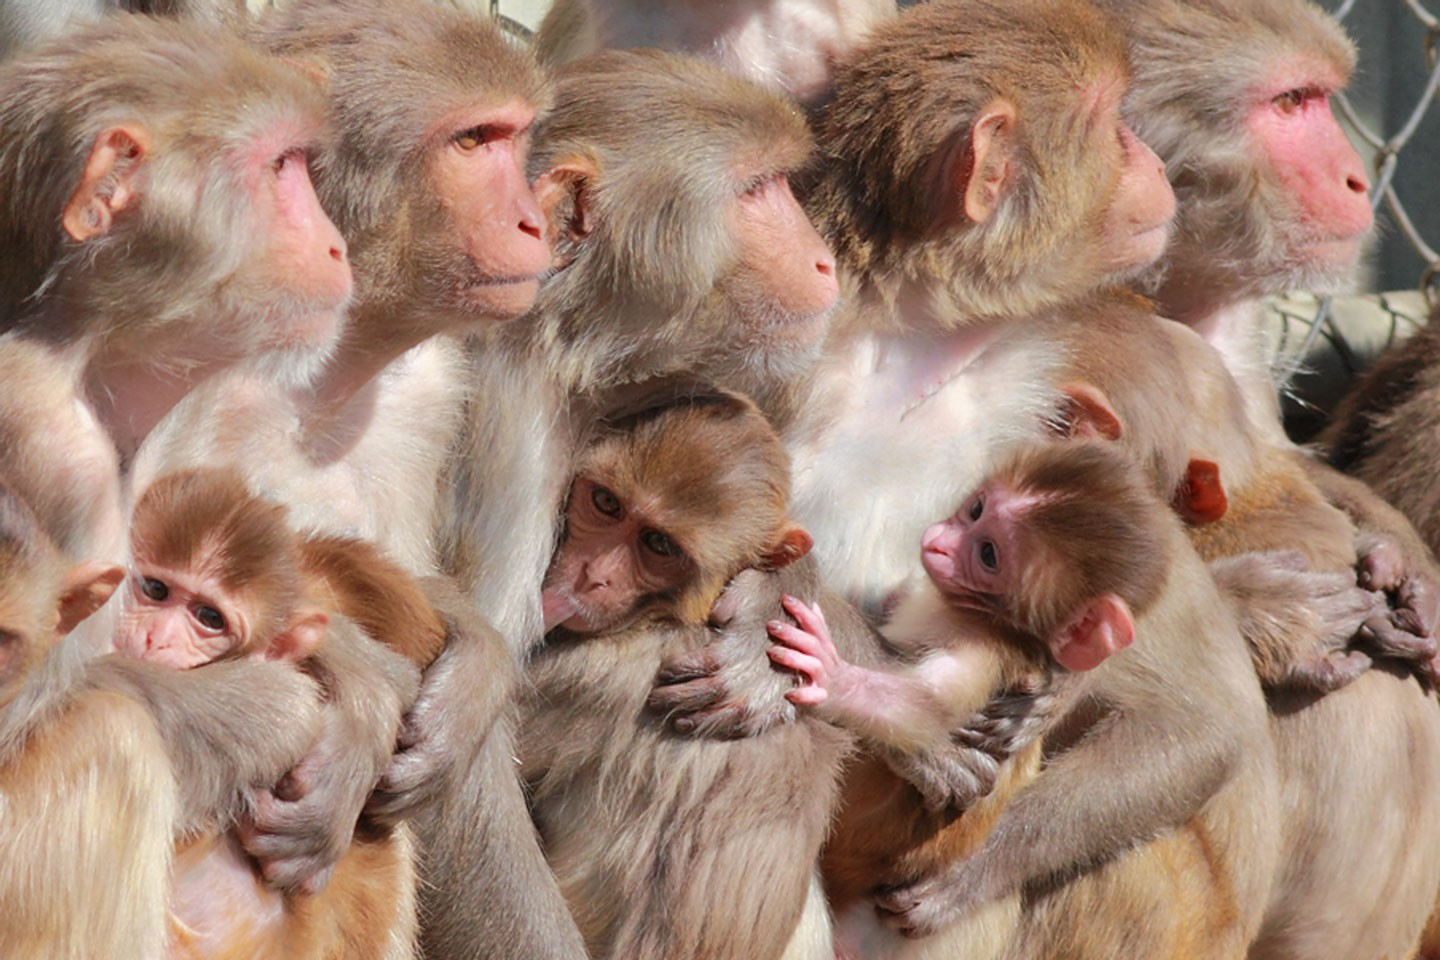monkey: (950, 283, 1440, 960), (1, 36, 347, 960), (516, 46, 840, 960), (246, 18, 549, 526), (772, 420, 1136, 835), (813, 1, 1164, 318), (517, 376, 789, 762), (1086, 1, 1401, 331), (75, 463, 318, 703)
